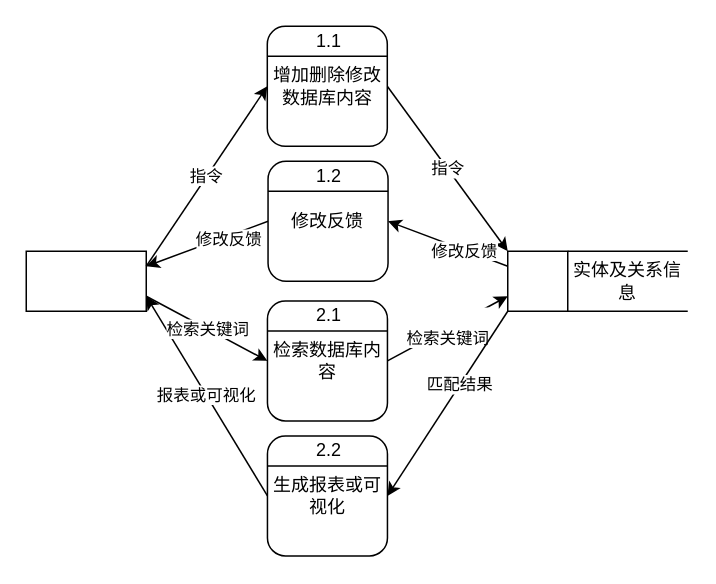
Image size: 716x584. Some labels were removed from this diagram. Each missing label, with the centre of its shape:
"D1" goes at (x=537, y=280).
"用户" goes at (x=85, y=280).
